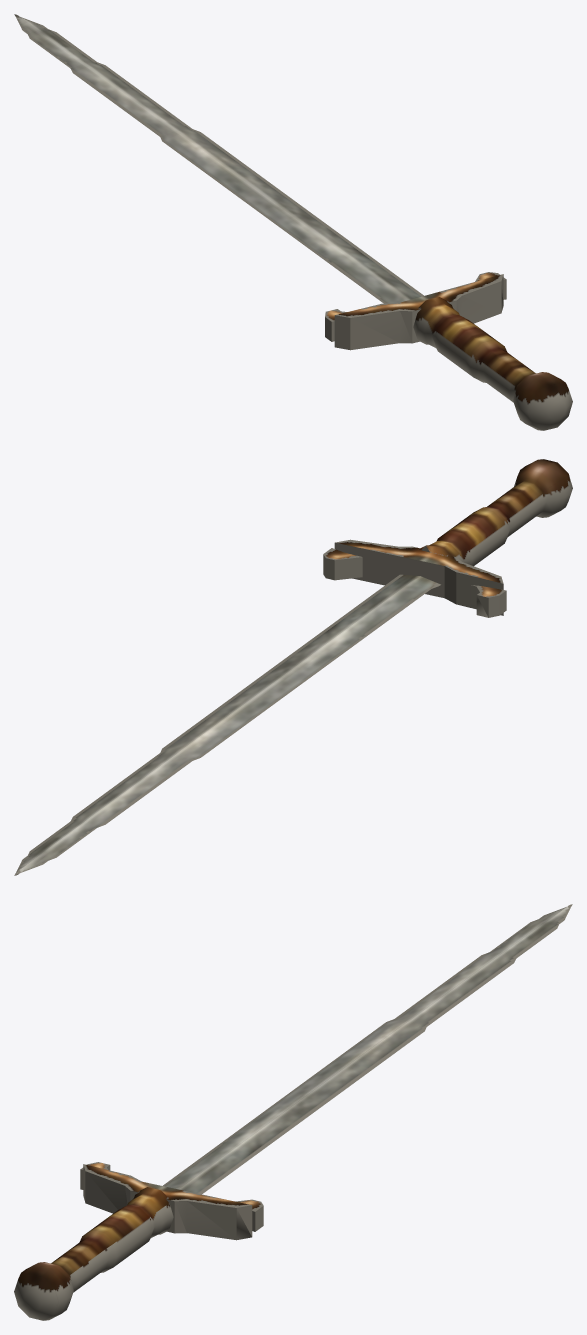
Rendered from item_mm9_10178.glb.
3 views of the same model, one above another, from view 1: azimuth 30°, elevation 25°; view 2: azimuth 150°, elevation 25°; view 3: azimuth 330°, elevation 25° (orthographic).
Parts seen in each view (by area): view 1: d10178; view 2: d10178; view 3: d10178.
Part boxes in pixels (box(x1,y1,x2,y2)): d10178: box(14, 14, 572, 430); d10178: box(14, 459, 572, 875); d10178: box(14, 904, 572, 1320).
Size of the model in its own units: 26.47 by 7.25 by 142.
Materials: 1 (1 with a texture image).
